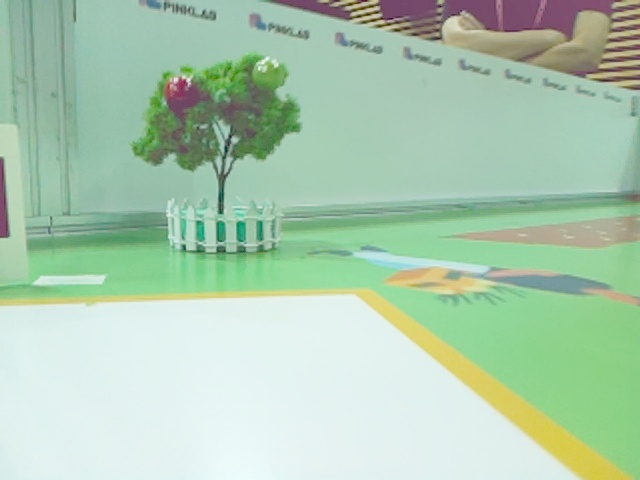apple: (163, 74, 201, 115)
